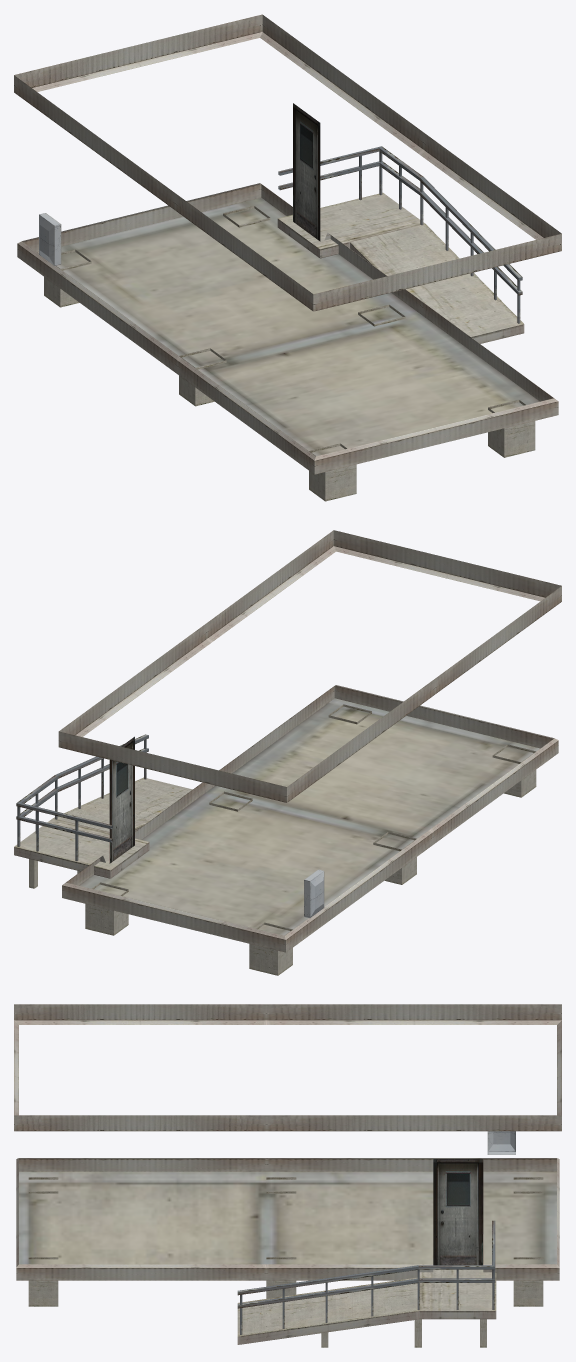
File: rural_unmobilehome_1_rural_facade_flr_2_0_lev2.glb
3 renders of one model, top to bottom at view 1: azimuth 30°, elevation 25°; view 2: azimuth 150°, elevation 25°; view 3: azimuth 270°, elevation 25°, orthographic. The views are drawn at different scales.
Parts seen in each view (by area): view 1: rural_unmobilehome_1_rural_facade_flr_2_0_lev2; view 2: rural_unmobilehome_1_rural_facade_flr_2_0_lev2; view 3: rural_unmobilehome_1_rural_facade_flr_2_0_lev2.
Boxes of the visible parts, bbox=[...] form: rural_unmobilehome_1_rural_facade_flr_2_0_lev2: bbox=[14, 14, 561, 501]; rural_unmobilehome_1_rural_facade_flr_2_0_lev2: bbox=[14, 530, 561, 975]; rural_unmobilehome_1_rural_facade_flr_2_0_lev2: bbox=[14, 1004, 561, 1347].
Size of the model in its own units: 8.75 by 5.43 by 13.52.
Materials: 1 (1 with a texture image).
